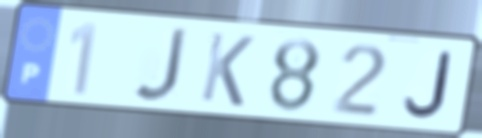1: (67, 20, 100, 97)
2: (330, 42, 389, 119)
8: (264, 33, 324, 116)
J: (130, 26, 192, 105), (400, 49, 454, 121)
K: (197, 29, 258, 110)
